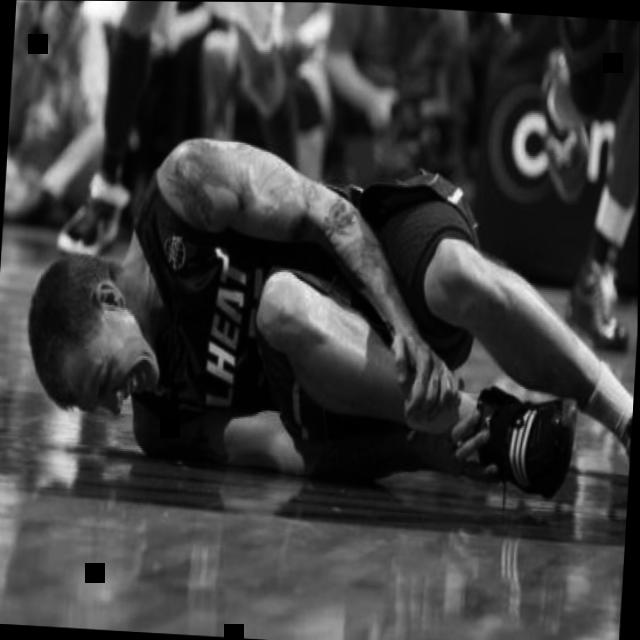Fall-Detected: (9, 96, 636, 491)
